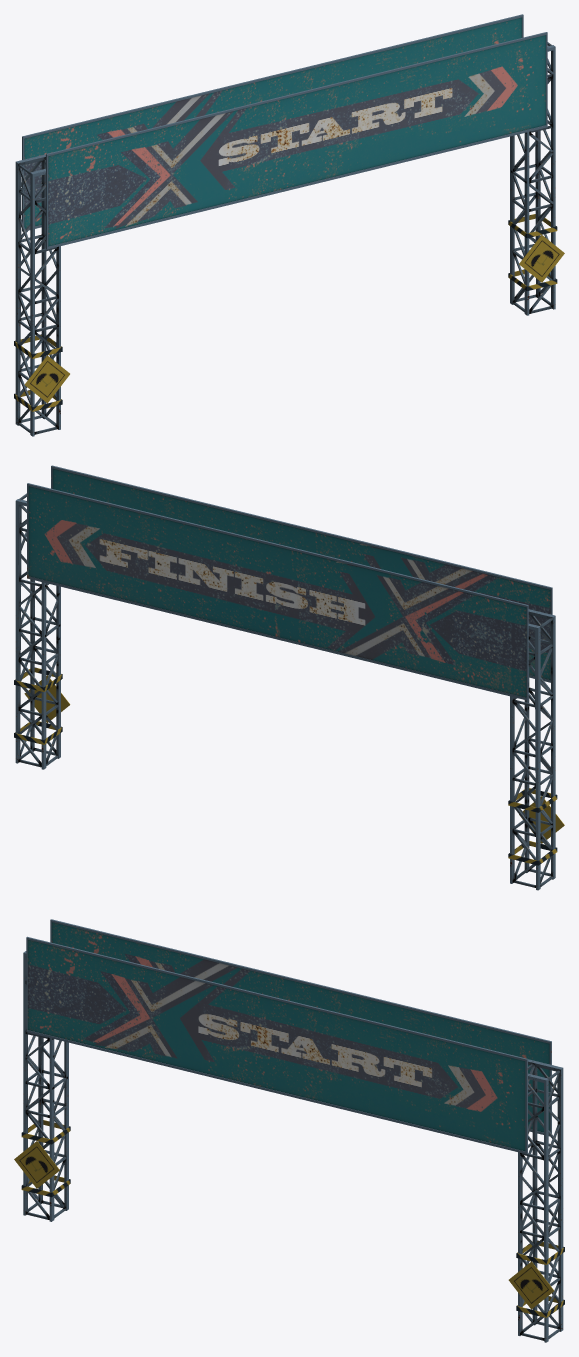
The model's file is Checkpointboard_04.fbx.
3 views of the same model, one above another, from view 1: azimuth 30°, elevation 25°; view 2: azimuth 150°, elevation 25°; view 3: azimuth 330°, elevation 25° (orthographic).
Visible parts, largest first — view 1: Board_01, Stand, Board_02, Direction; view 2: Board_02, Stand, Board_01, Direction; view 3: Board_01, Stand, Board_02, Direction.
Boxes of the visible parts, x1,y1,x2,y2 form: Board_01: [46, 32, 547, 249]; Stand: [15, 42, 555, 436]; Board_02: [22, 14, 523, 231]; Direction: [14, 214, 564, 411]; Board_02: [27, 483, 528, 700]; Stand: [15, 493, 555, 890]; Board_01: [51, 465, 552, 682]; Direction: [14, 667, 564, 865]; Board_01: [26, 936, 527, 1154]; Stand: [23, 951, 563, 1342]; Board_02: [50, 919, 551, 1136]; Direction: [14, 1120, 564, 1317].
Bounding box in the file's own units: 1.91 × 0.9587 × 0.153.
